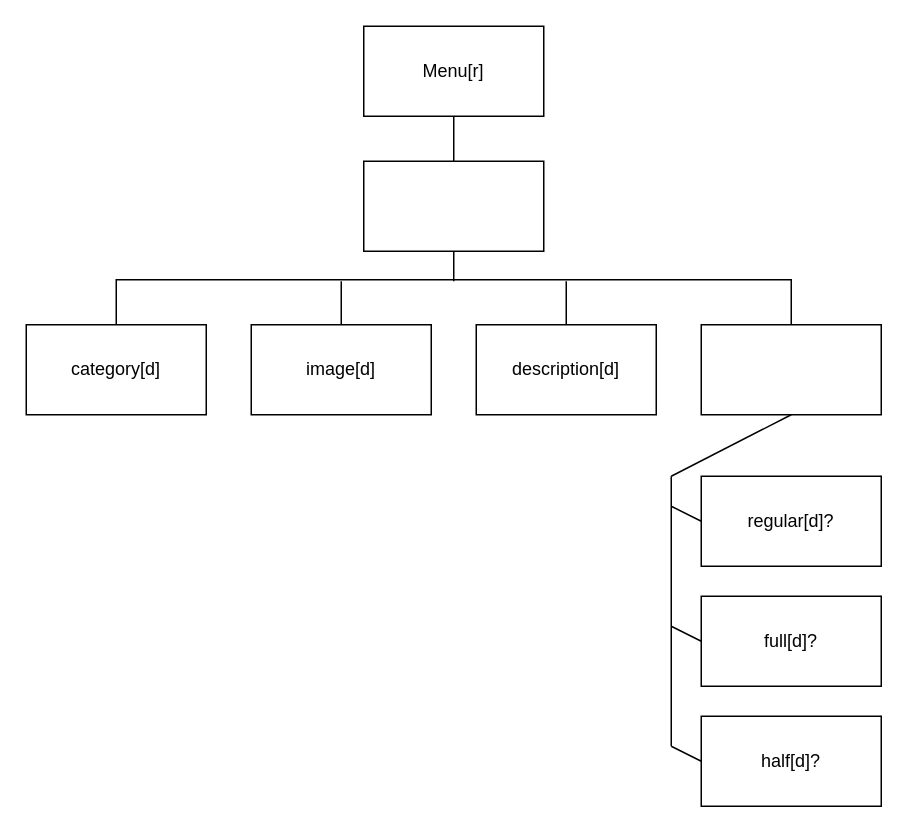
Image size: 908x833. Some labels were removed from this diagram. Each missing label, with the box of its shape:
MenuItem[c]+: (362, 160, 544, 251)
price[c]: (700, 323, 881, 415)
